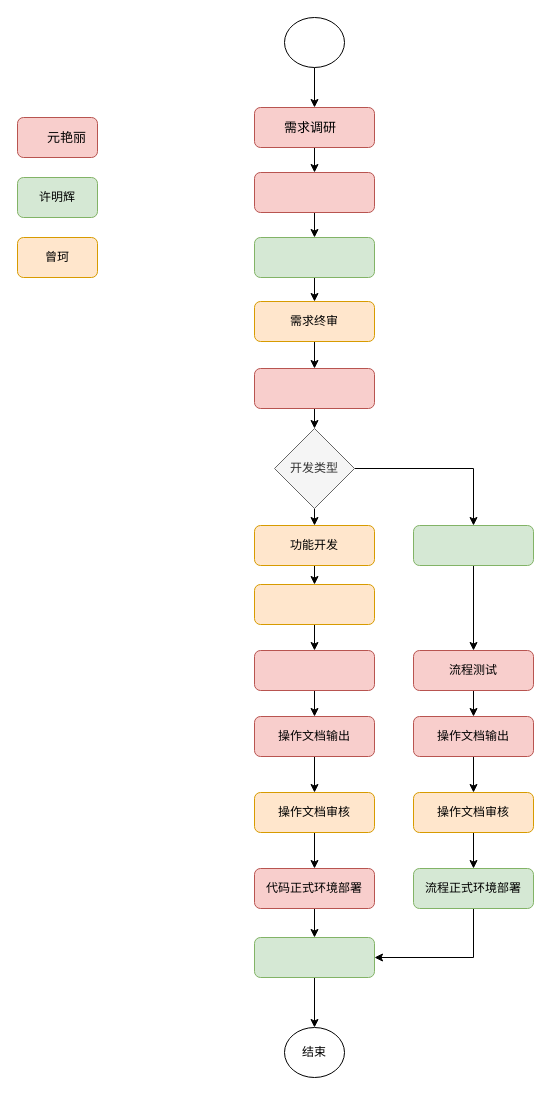
This 551x1095 diagram has some shape labels left out. Here are the shapes that lost their labels. From the top down, the centre of each, then its label:
the point at 314,42: 开始
the point at 314,192: 需求文档输出
the point at 314,257: 需求初审
the point at 314,388: 组织需求单位确认
the point at 473,545: 流程开发
the point at 314,604: 代码测试环境部署
the point at 314,670: 功能测试
the point at 314,957: 操作文档发布
